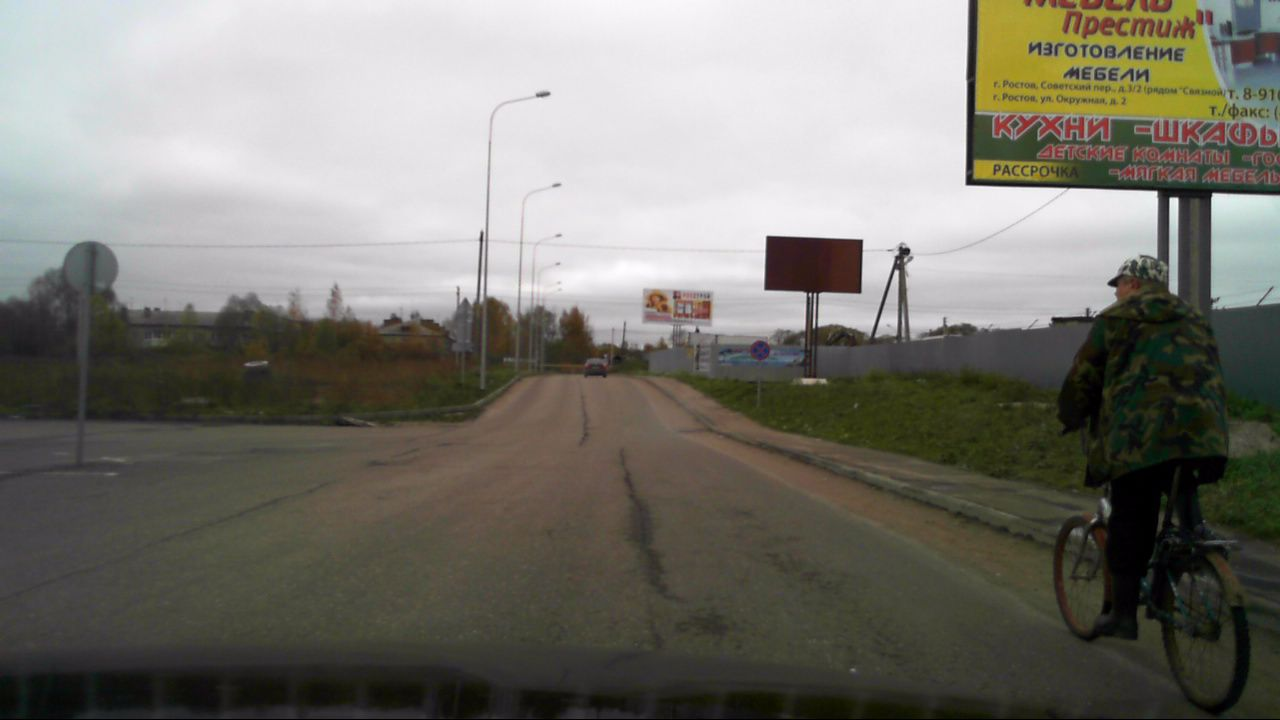No Parking: (749, 340, 771, 361)
